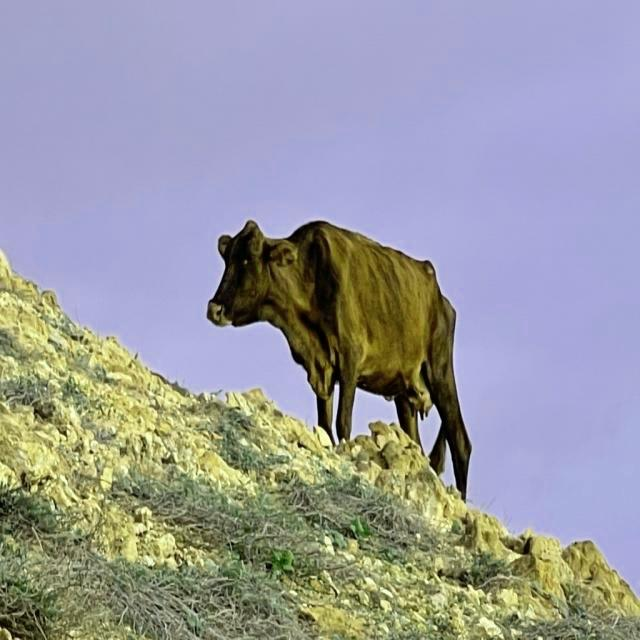cow: (208, 221, 471, 498)
